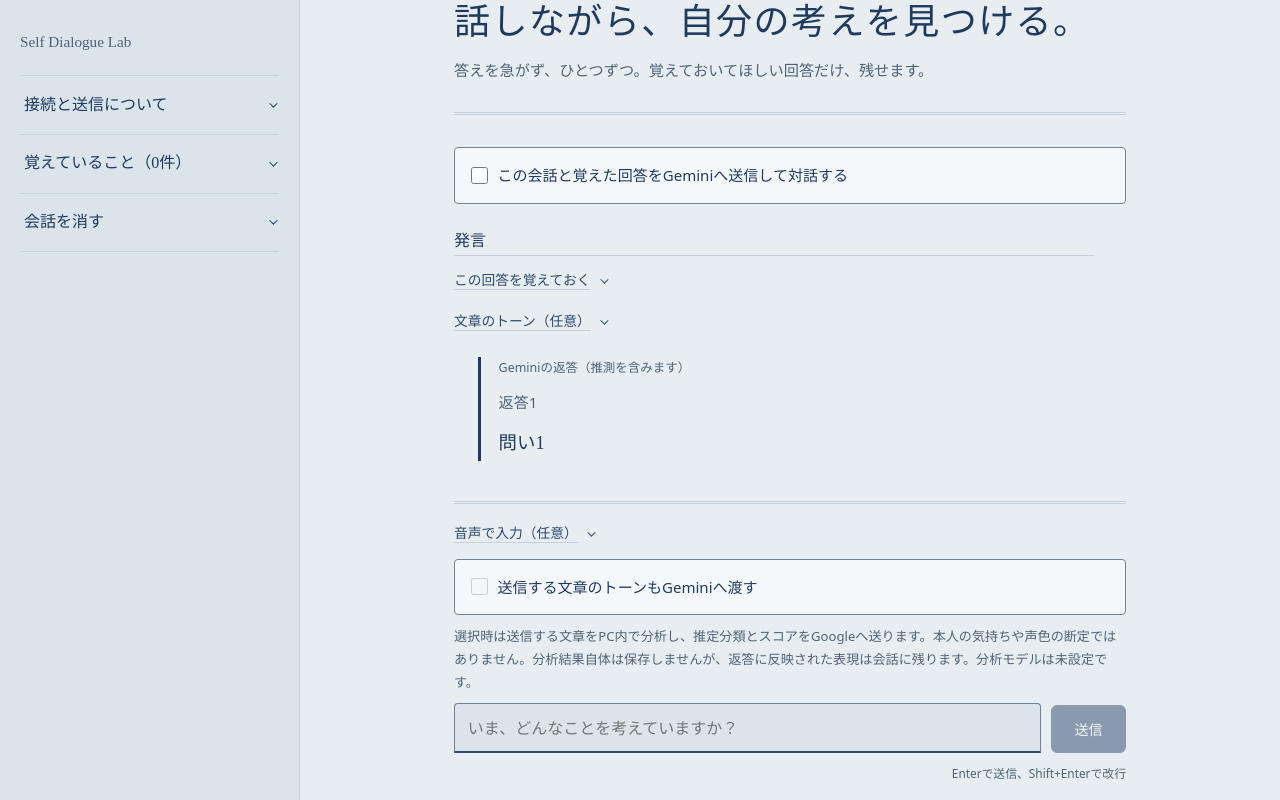
Test case: tone analysis › is disabled until configured and never runs automatically
(page scrolled)
Click the heading "文章のトーン（任意）": (530, 322) [454,306,606,337]
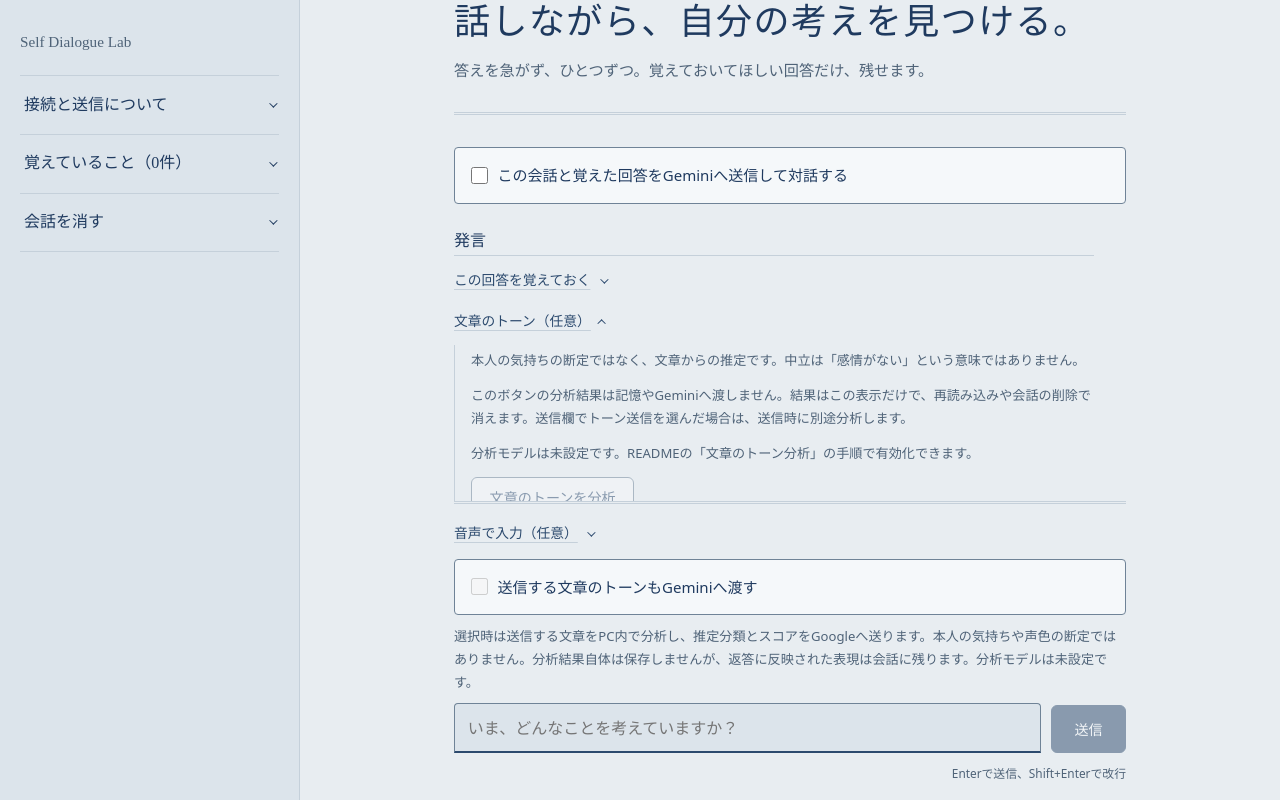
Check: the button "文章のトーンを分析" is disabled, box [471,477,634,519]
Check: the text "分析モデルは未設定です。READMEの「文章のトーン分析」の手順で有効化できます。" is shown, box [471,444,979,462]
